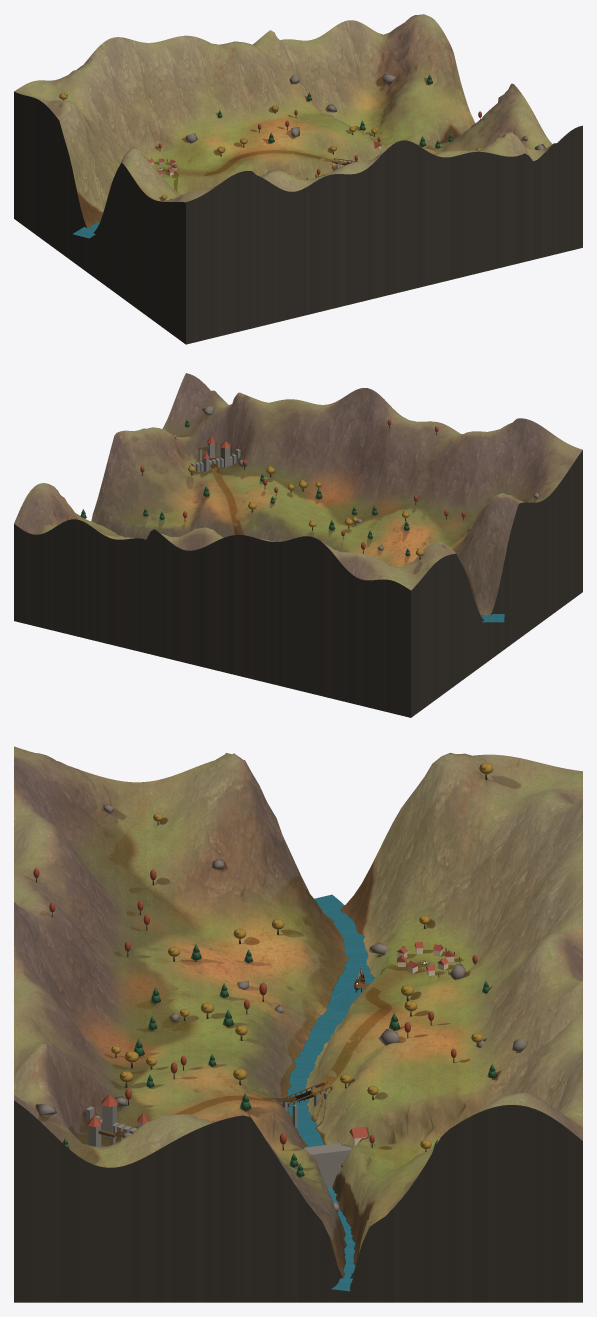
The picture shows the model from 3 angles, top to bottom: view 1: azimuth 30°, elevation 25°; view 2: azimuth 150°, elevation 25°; view 3: azimuth 270°, elevation 25°; orthographic projection. The views are drawn at different scales.
Parts seen in each view (by area): view 1: edge_skirt, ground_valley, veg_canopy, walk_road, rocks; view 2: edge_skirt, ground_valley, veg_canopy, clifftown, walk_road; view 3: ground_valley, edge_skirt, water_river, veg_canopy, walk_road, rocks, clifftown, dam, village, walk_village_green.
Boxes of the visible parts, <box> form: edge_skirt: <box>14,91,582,344</box>; ground_valley: <box>14,14,564,228</box>; veg_canopy: <box>59,74,482,199</box>; walk_road: <box>162,150,350,176</box>; rocks: <box>174,74,545,190</box>; edge_skirt: <box>14,450,582,717</box>; ground_valley: <box>14,373,582,615</box>; veg_canopy: <box>80,419,465,556</box>; clifftown: <box>191,436,240,471</box>; walk_road: <box>209,458,243,535</box>; ground_valley: <box>14,746,582,1277</box>; edge_skirt: <box>14,1100,582,1302</box>; water_river: <box>287,894,371,1291</box>; veg_canopy: <box>33,762,496,1176</box>; walk_road: <box>114,961,427,1137</box>; rocks: <box>35,805,527,1212</box>; clifftown: <box>86,1094,149,1147</box>; dam: <box>303,1127,368,1187</box>; village: <box>397,941,460,977</box>; walk_village_green: <box>393,950,456,976</box>.
Bounding box in the file's own units: 130 × 46 × 90.
5 materials, 2 textured.
